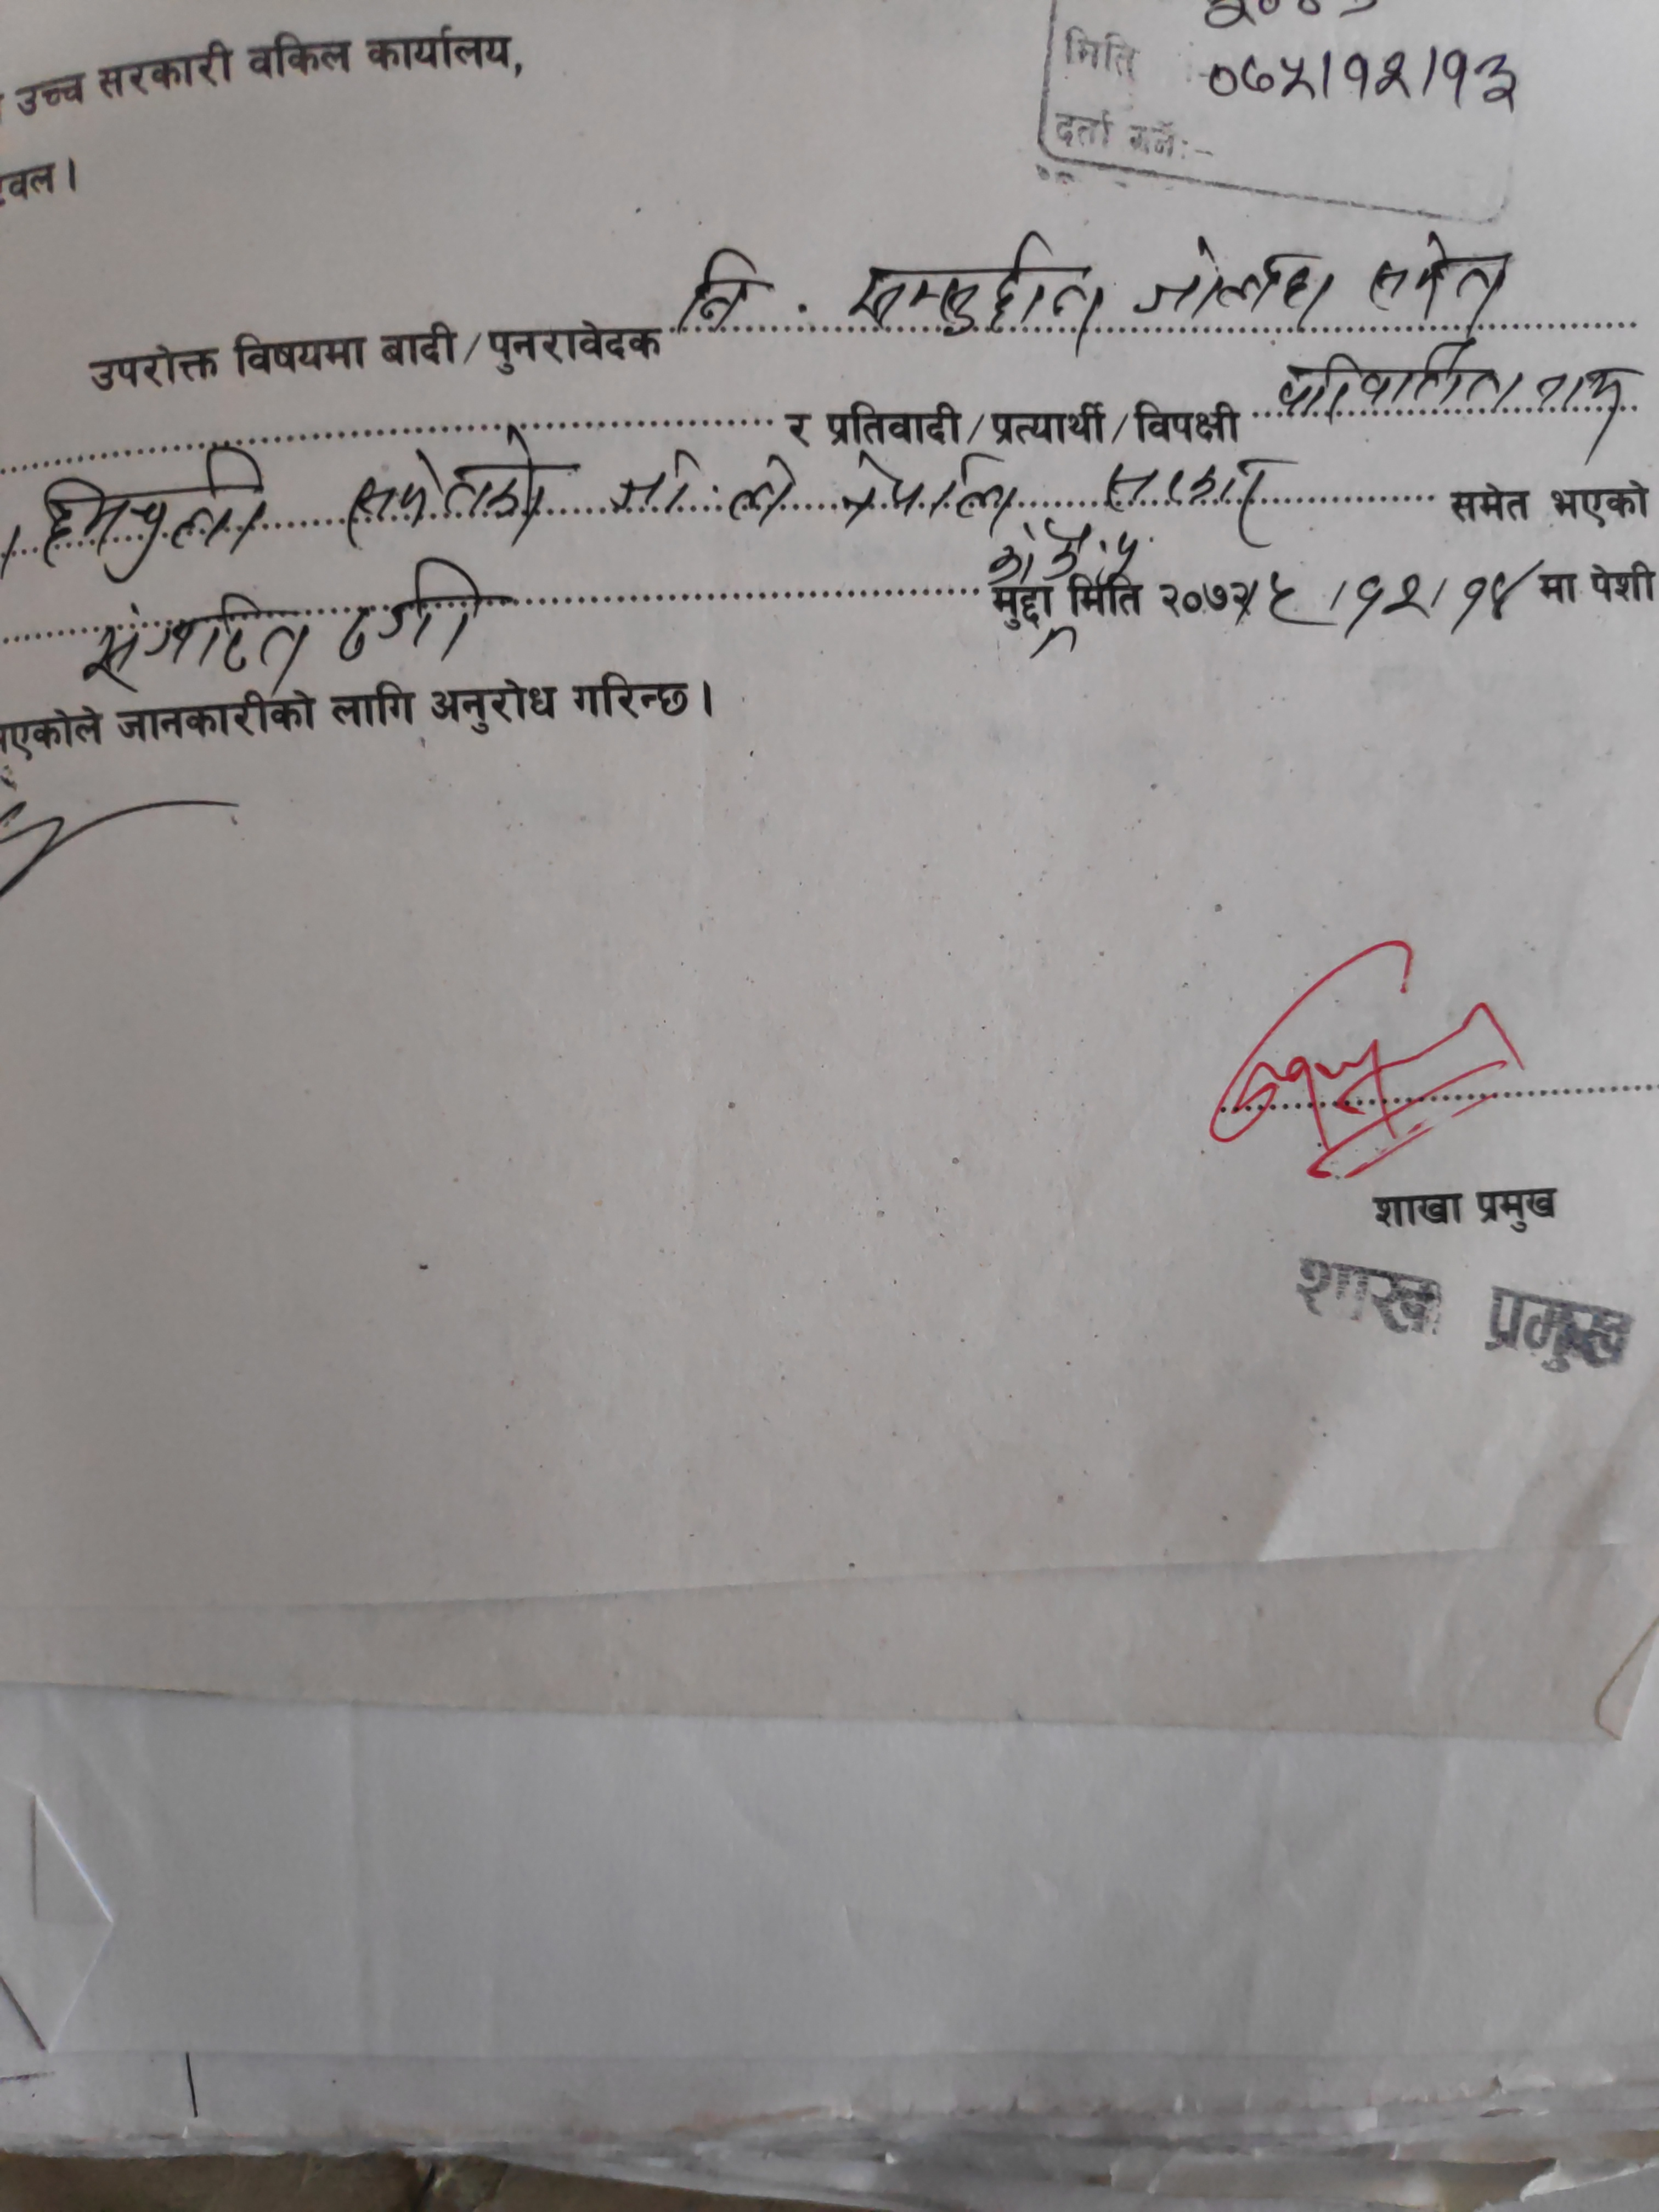text: (835, 223, 1112, 352), (37, 442, 284, 583), (331, 428, 565, 549), (1202, 38, 1521, 125), (78, 590, 319, 693), (1131, 230, 1347, 336), (329, 552, 486, 674), (1283, 343, 1528, 418), (826, 442, 1025, 533), (601, 446, 807, 529), (1098, 449, 1295, 536), (1366, 225, 1514, 329), (671, 244, 770, 334), (1445, 554, 1528, 641), (1345, 566, 1434, 639)
